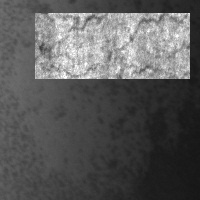crazing: (35, 13, 190, 79)
pitted_surface: (82, 1, 184, 187), (1, 1, 78, 200), (144, 98, 200, 200)
